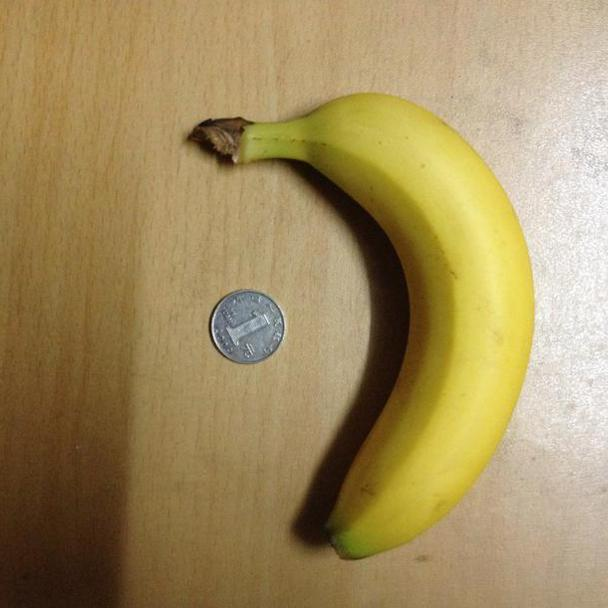banana: (206, 90, 565, 563)
